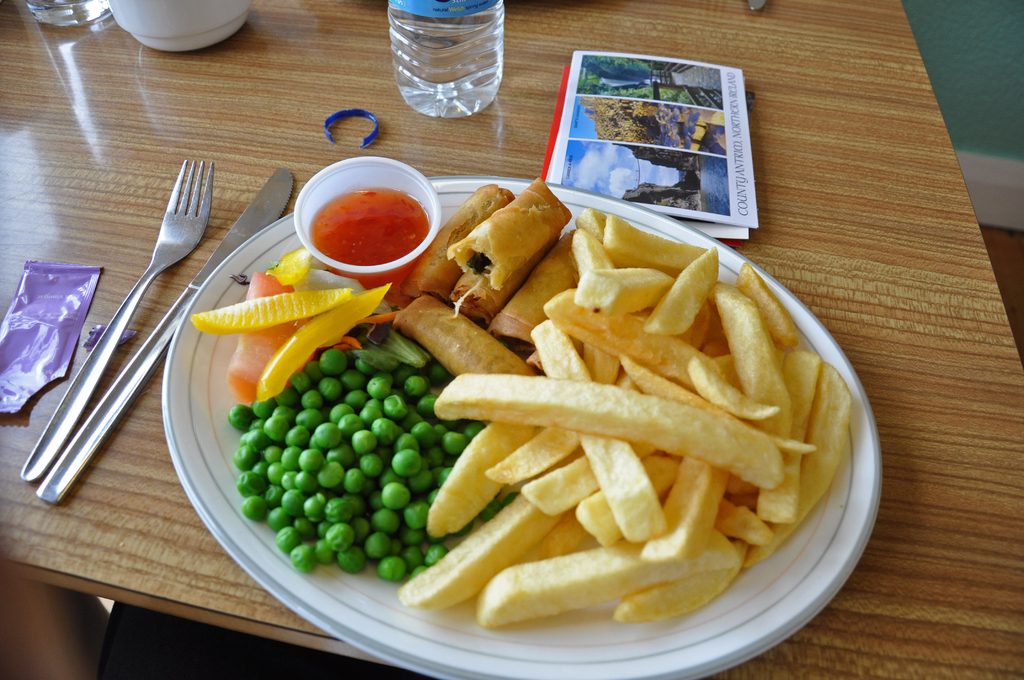French fries: (394, 193, 853, 638)
